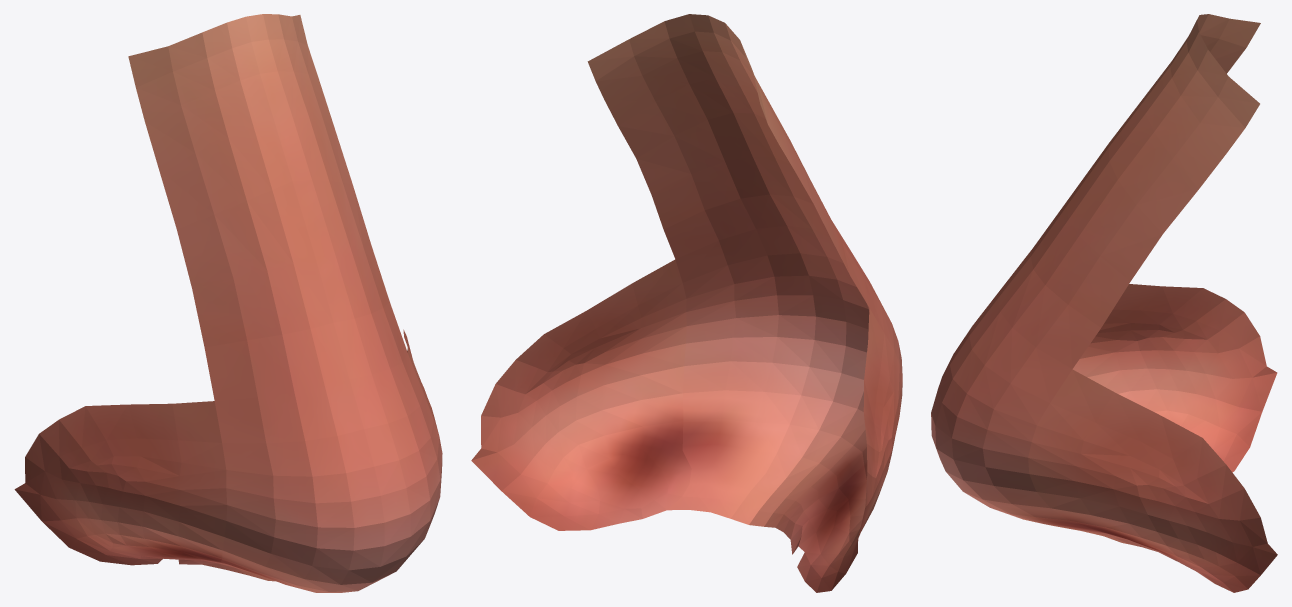
Rendered from euro-nose-nostril-thin.obj.
3 views of the same model, side by side, from view 1: azimuth 30°, elevation 25°; view 2: azimuth 150°, elevation 25°; view 3: azimuth 270°, elevation 25° (orthographic). The views are drawn at different scales.
Parts seen in each view (by area): view 1: euro-nose-nostril-thi.001; view 2: euro-nose-nostril-thi.001; view 3: euro-nose-nostril-thi.001.
Boxes of the visible parts, left/top/right/bottom form: euro-nose-nostril-thi.001: left=14, top=14, right=442, bottom=592; euro-nose-nostril-thi.001: left=471, top=14, right=902, bottom=592; euro-nose-nostril-thi.001: left=931, top=14, right=1277, bottom=592.
Size of the model in its own units: 0.2559 by 0.3415 by 0.2077.
1 material, 1 textured.
